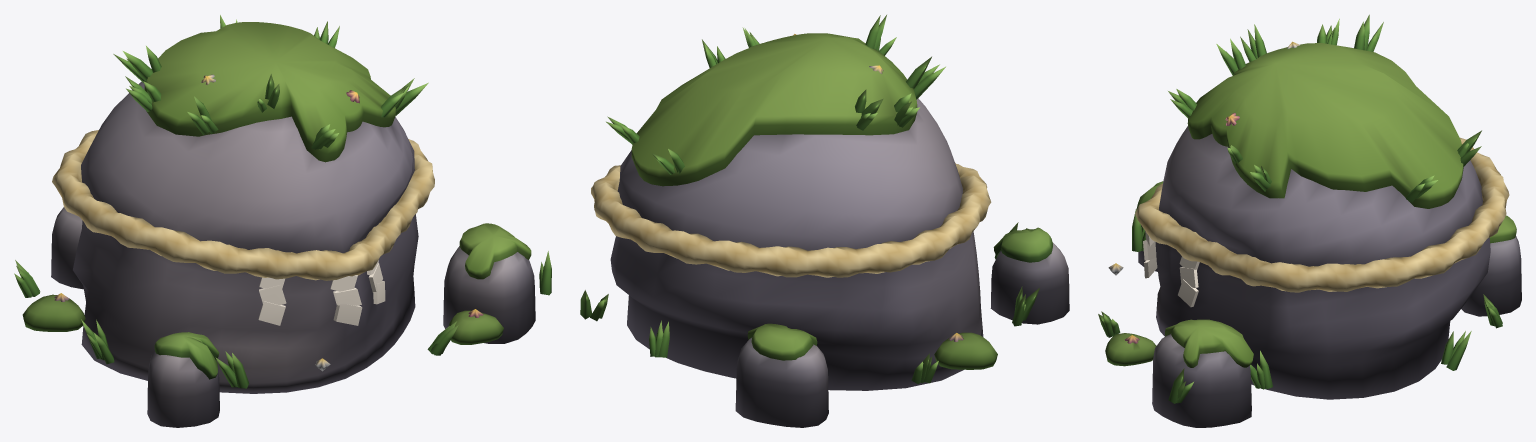
Rendered from rg-bamboo-iwakura.glb.
The picture shows the model from 3 angles, left to right: view 1: azimuth 30°, elevation 25°; view 2: azimuth 150°, elevation 25°; view 3: azimuth 270°, elevation 25°; orthographic projection. The views are drawn at different scales.
Visible parts, largest first — view 1: stone, body, leaf, cloth; view 2: stone, body, leaf; view 3: stone, body, leaf, cloth.
Boxes of the visible parts, x1=… form: stone: x1=22, y1=22, x2=535, y2=427; body: x1=52, y1=74, x2=483, y2=371; leaf: x1=14, y1=15, x2=551, y2=388; cloth: x1=258, y1=260, x2=385, y2=325; stone: x1=610, y1=33, x2=1069, y2=427; body: x1=591, y1=34, x2=991, y2=341; leaf: x1=580, y1=15, x2=1039, y2=384; stone: x1=1105, y1=43, x2=1521, y2=427; body: x1=1108, y1=41, x2=1509, y2=343; leaf: x1=1098, y1=14, x2=1502, y2=403; cloth: x1=1143, y1=231, x2=1199, y2=307.
Bounding box in the file's own units: 3.61 × 2.28 × 3.18.
